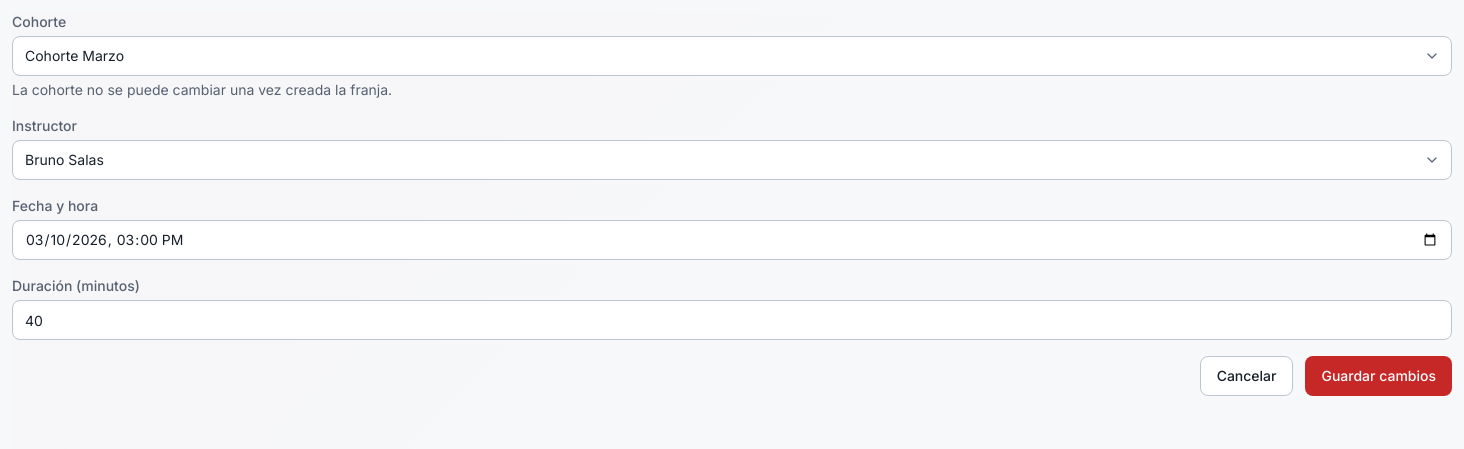
Test: PracticeSlotForm › muestra el mensaje de error del backend (ej. condición de carrera al editar)
Click the button "Guardar cambios" at (1379, 376), box 1306,356 -> 1452,396
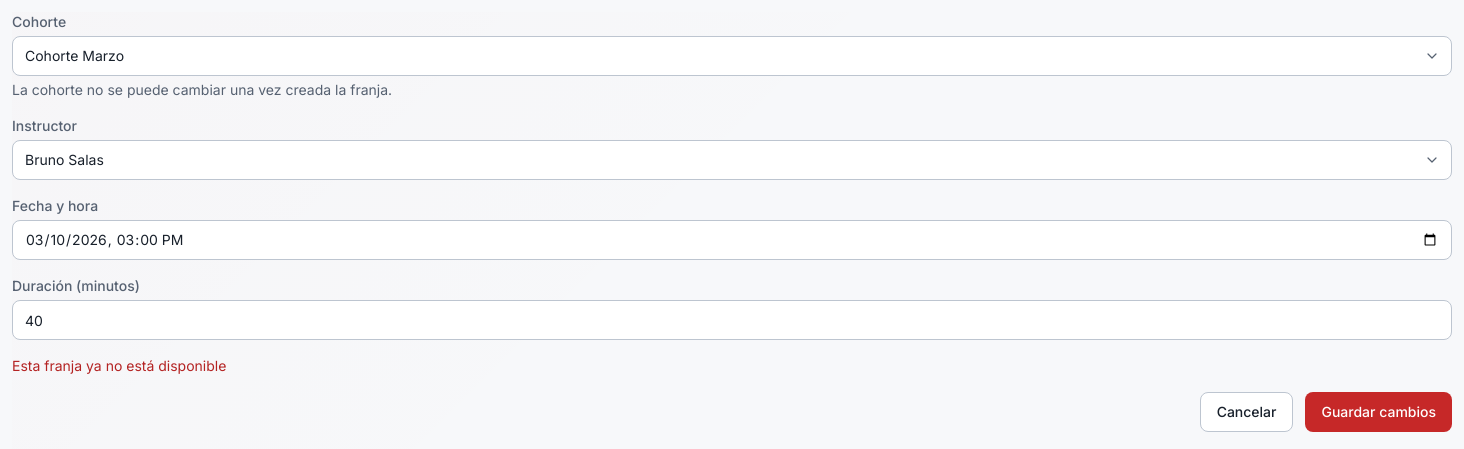
Now the text "Esta franja ya no está disponible" is shown, box 12,357 -> 226,374
